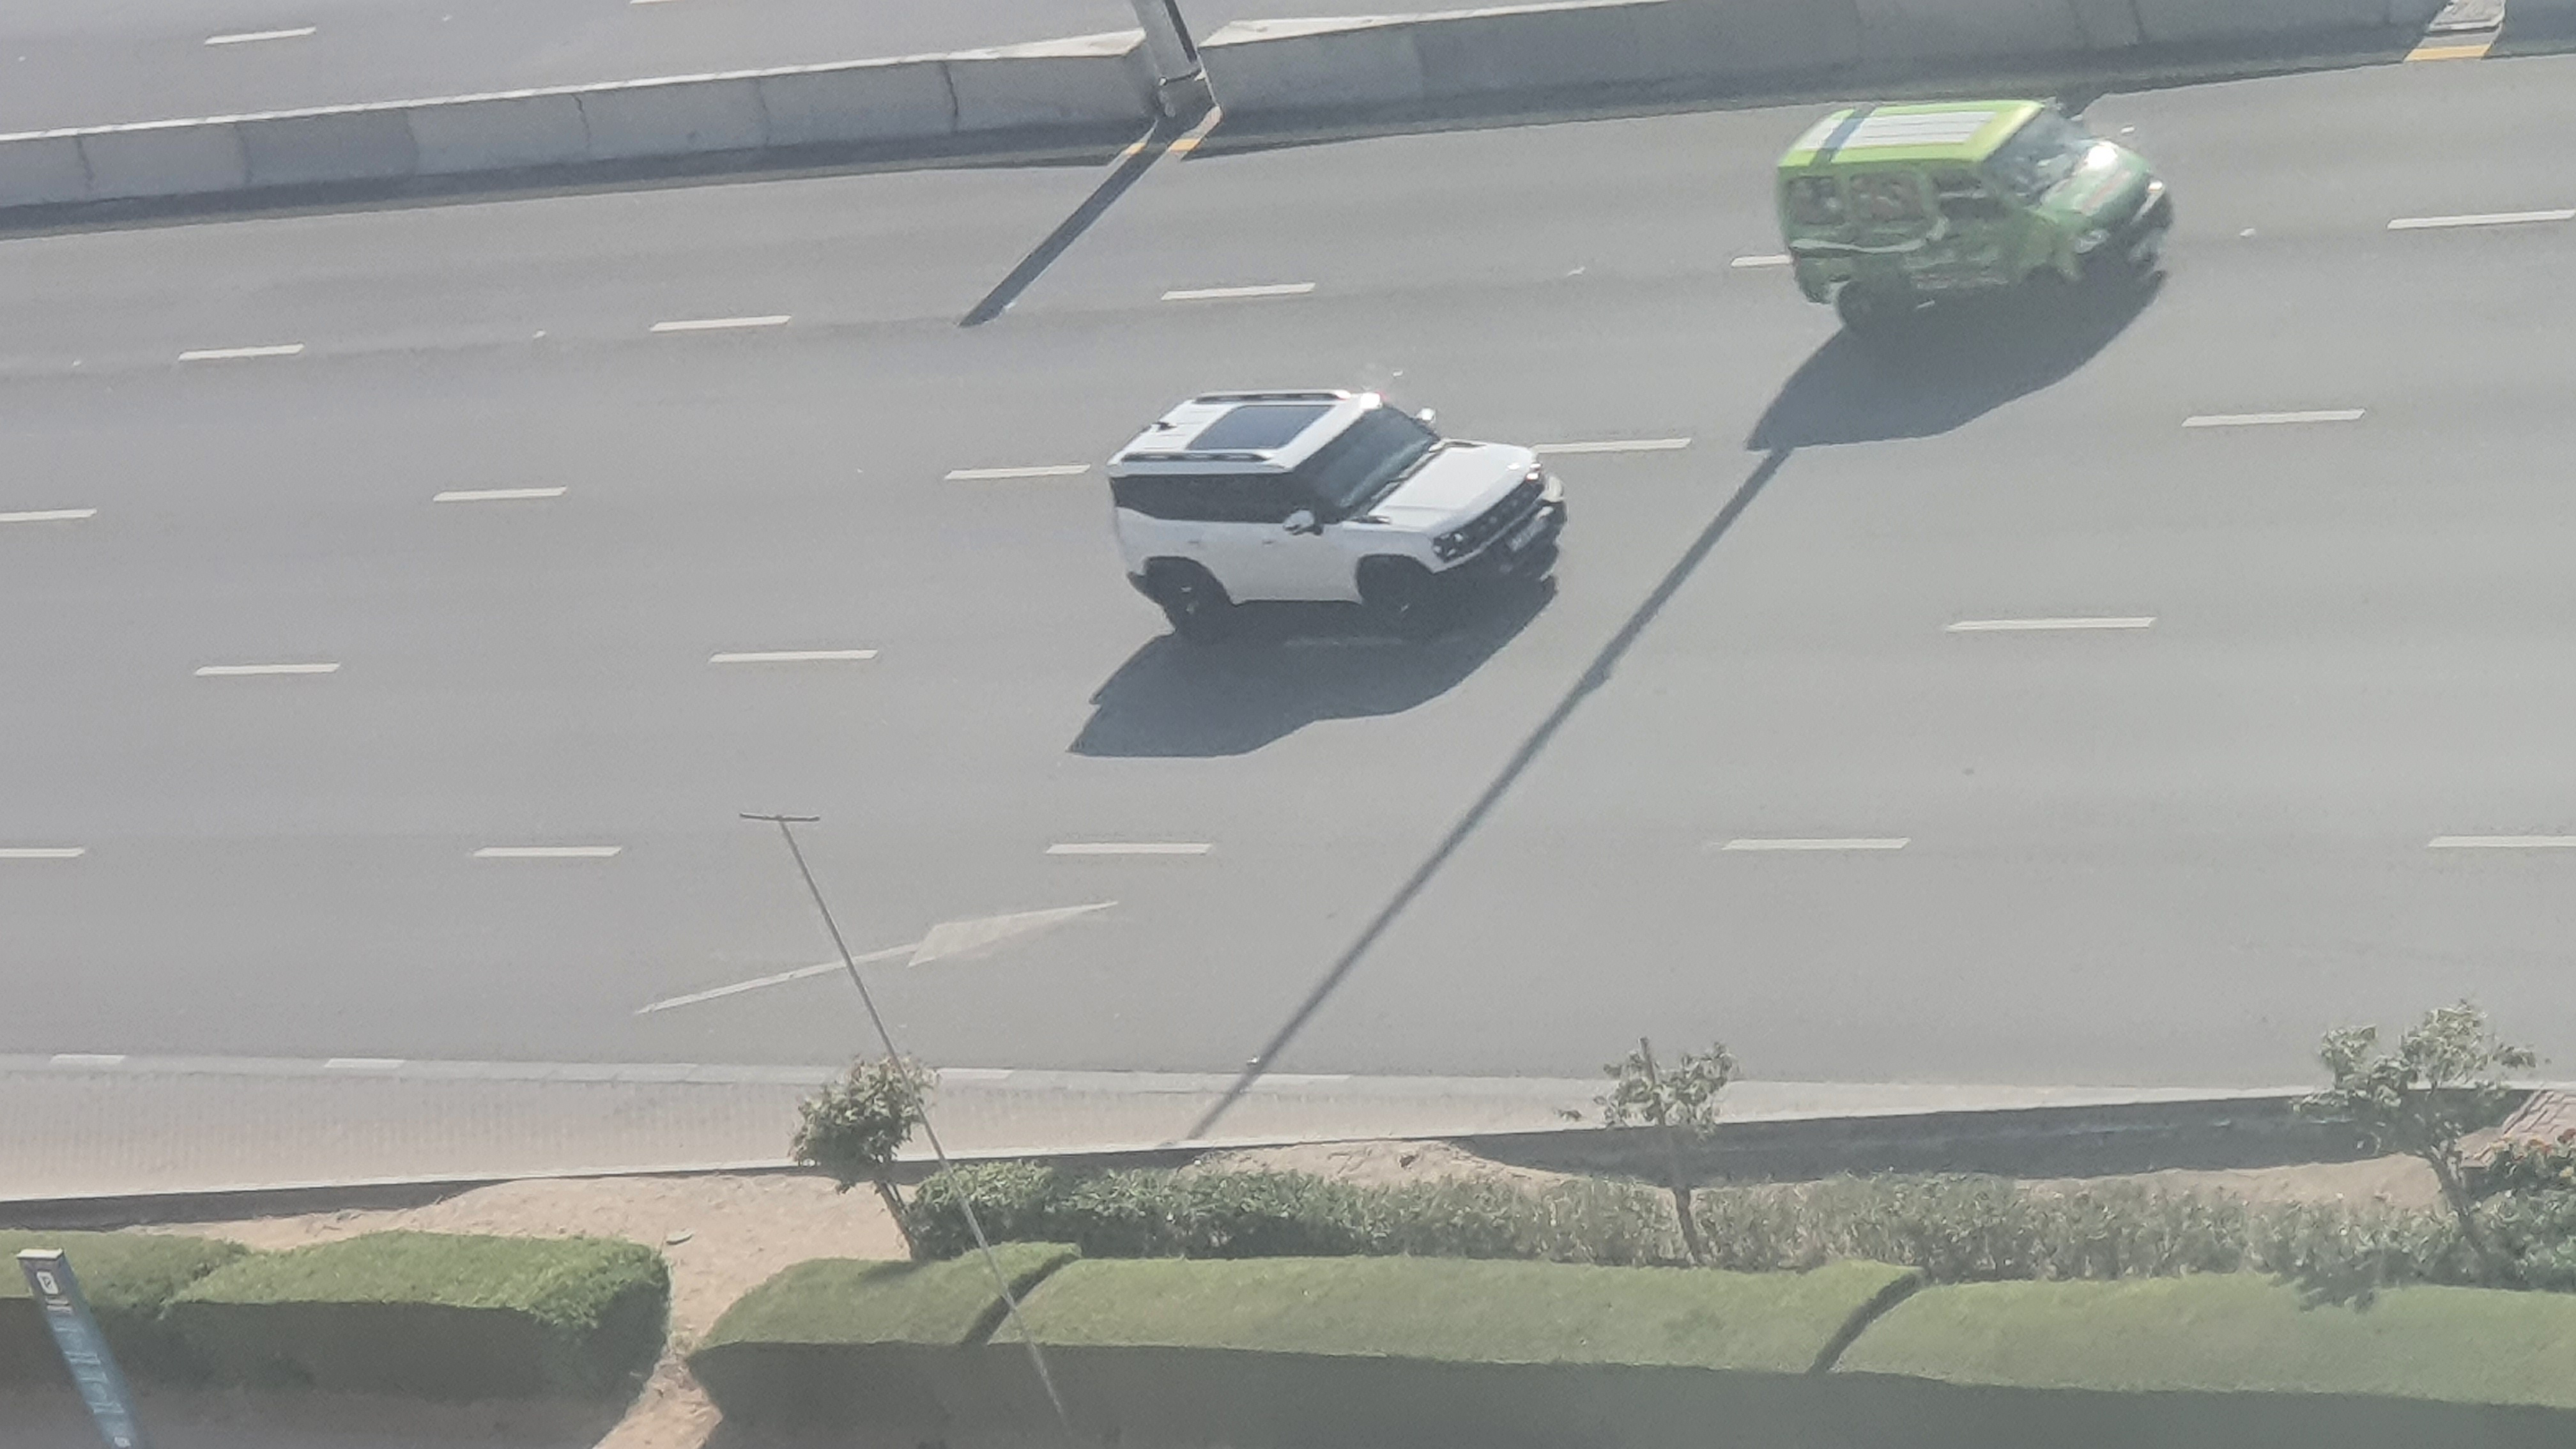Sunroof: (1099, 391, 1573, 649)
